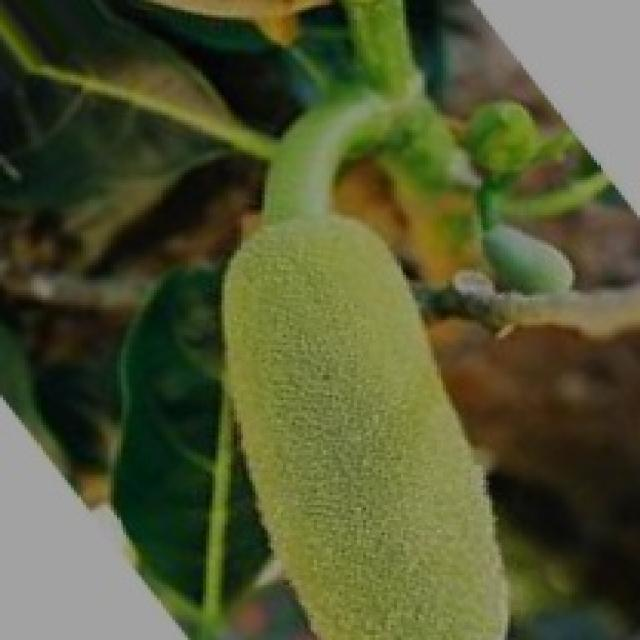Fruit: (176, 210, 566, 640), (12, 0, 425, 98)
